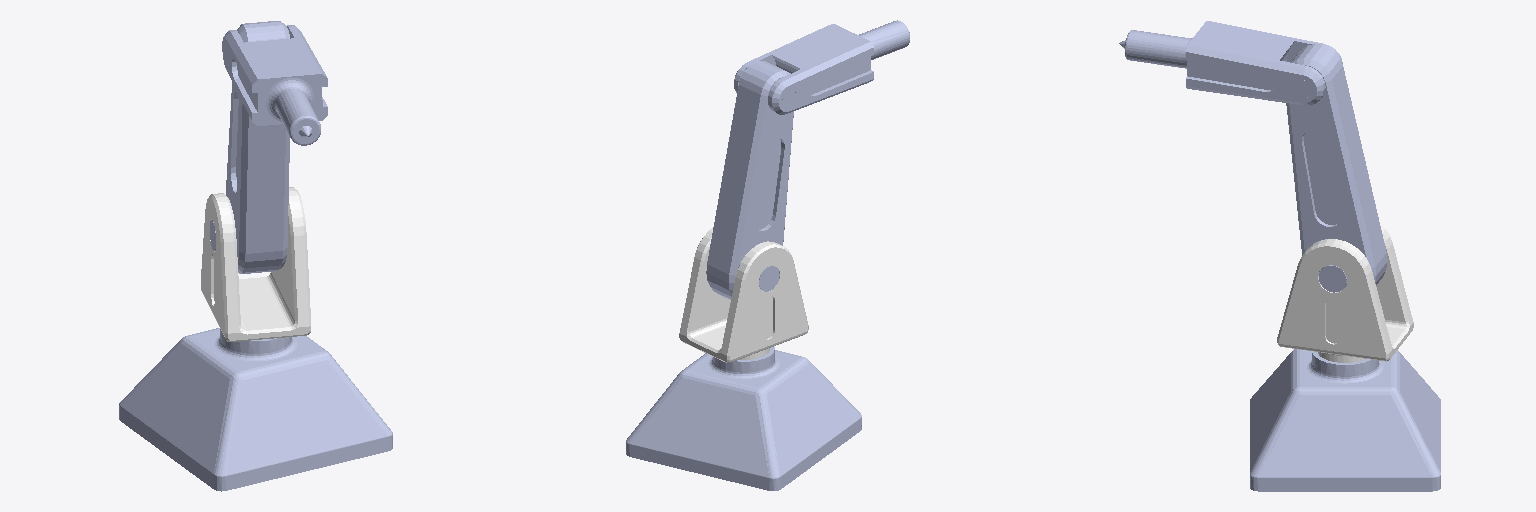
The robot description file, URDF, robot "robot_arm_urdf":
<?xml version="1.0" encoding="utf-8"?>
<!-- This URDF was automatically created by SolidWorks to URDF Exporter! Originally created by [author] ([email redacted]) 
     Commit Version: 1.6.0-4-g7f85cfe  Build Version: 1.6.7995.38578
     For more information, please see http://wiki.ros.org/sw_urdf_exporter -->
<robot
  name="robot_arm_urdf">
  <link
    name="base_link">
    <inertial>
      <origin
        xyz="0.00094902 -0.042374 0.0054442"
        rpy="0 0 0" />
      <mass
        value="17.147" />
      <inertia
        ixx="0.192"
        ixy="3.1704E-17"
        ixz="4.9423E-10"
        iyy="0.29544"
        iyz="-1.2591E-17"
        izz="0.192" />
    </inertial>
    <visual>
      <origin
        xyz="0 0 0"
        rpy="0 0 0" />
      <geometry>
        <mesh
          filename="package://robot_arm_urdf/meshes/base_link.STL" />
      </geometry>
      <material
        name="">
        <color
          rgba="0.79216 0.81961 0.93333 1" />
      </material>
    </visual>
    <collision>
      <origin
        xyz="0 0 0"
        rpy="0 0 0" />
      <geometry>
        <mesh
          filename="package://robot_arm_urdf/meshes/base_link.STL" />
      </geometry>
    </collision>
  </link>
  <link
    name="link1">
    <inertial>
      <origin
        xyz="-2.5743E-14 0.11047 -7.8988E-11"
        rpy="0 0 0" />
      <mass
        value="3.0905" />
      <inertia
        ixx="0.026302"
        ixy="-2.5287E-15"
        ixz="-1.4177E-12"
        iyy="0.019632"
        iyz="-7.4535E-12"
        izz="0.025388" />
    </inertial>
    <visual>
      <origin
        xyz="0 0 0"
        rpy="0 0 0" />
      <geometry>
        <mesh
          filename="package://robot_arm_urdf/meshes/link1.STL" />
      </geometry>
      <material
        name="">
        <color
          rgba="1 1 1 1" />
      </material>
    </visual>
    <collision>
      <origin
        xyz="0 0 0"
        rpy="0 0 0" />
      <geometry>
        <mesh
          filename="package://robot_arm_urdf/meshes/link1.STL" />
      </geometry>
    </collision>
  </link>
  <joint
    name="joint1"
    type="revolute">
    <origin
      xyz="0.00094902 -0.0054442 0.08375"
      rpy="1.5708 0 1.2523" />
    <parent
      link="base_link" />
    <child
      link="link1" />
    <axis
      xyz="0 1 0" />
    <limit
      lower="-3.14"
      upper="3.14"
      effort="300"
      velocity="3" />
  </joint>
  <link
    name="link2">
    <inertial>
      <origin
        xyz="-3.4972E-15 0.16574 -3.8251E-16"
        rpy="0 0 0" />
      <mass
        value="5.5443" />
      <inertia
        ixx="0.12387"
        ixy="-2.6997E-17"
        ixz="-3.4694E-18"
        iyy="0.011258"
        iyz="-2.884E-17"
        izz="0.12678" />
    </inertial>
    <visual>
      <origin
        xyz="0 0 0"
        rpy="0 0 0" />
      <geometry>
        <mesh
          filename="package://robot_arm_urdf/meshes/link2.STL" />
      </geometry>
      <material
        name="">
        <color
          rgba="0.79216 0.81961 0.93333 1" />
      </material>
    </visual>
    <collision>
      <origin
        xyz="0 0 0"
        rpy="0 0 0" />
      <geometry>
        <mesh
          filename="package://robot_arm_urdf/meshes/link2.STL" />
      </geometry>
    </collision>
  </link>
  <joint
    name="joint2"
    type="revolute">
    <origin
      xyz="0 0.205 0"
      rpy="0 0 0.16321" />
    <parent
      link="link1" />
    <child
      link="link2" />
    <axis
      xyz="0 0 1" />
    <limit
      lower="-3.14"
      upper="3.14"
      effort="300"
      velocity="3" />
  </joint>
  <link
    name="link3">
    <inertial>
      <origin
        xyz="0.1643 0.00020277 -1.5959E-16"
        rpy="0 0 0" />
      <mass
        value="2.676" />
      <inertia
        ixx="0.0054281"
        ixy="-0.00011381"
        ixz="-1.1059E-17"
        iyy="0.024185"
        iyz="-3.7947E-19"
        izz="0.021986" />
    </inertial>
    <visual>
      <origin
        xyz="0 0 0"
        rpy="0 0 0" />
      <geometry>
        <mesh
          filename="package://robot_arm_urdf/meshes/link3.STL" />
      </geometry>
      <material
        name="">
        <color
          rgba="0.79216 0.81961 0.93333 1" />
      </material>
    </visual>
    <collision>
      <origin
        xyz="0 0 0"
        rpy="0 0 0" />
      <geometry>
        <mesh
          filename="package://robot_arm_urdf/meshes/link3.STL" />
      </geometry>
    </collision>
  </link>
  <joint
    name="joint3"
    type="revolute">
    <origin
      xyz="0 0.4 0"
      rpy="0 0 2.945" />
    <parent
      link="link2" />
    <child
      link="link3" />
    <axis
      xyz="0 0 1" />
    <limit
      lower="-3.14"
      upper="3.14"
      effort="300"
      velocity="3" />
  </joint>
</robot>

--- What the picture shows (computed from the rendered views, not written in the file) ---
The picture shows the robot from 3 angles, left to right: view 1: azimuth 30°, elevation 25°; view 2: azimuth 150°, elevation 25°; view 3: azimuth 270°, elevation 25°; orthographic projection.
Robot: robot_arm_urdf — 4 links, 3 joints (3 revolute); root link base_link; default pose: every joint at zero.
Visible links, largest first — view 1: base_link, link1, link2, link3; view 2: base_link, link2, link1, link3; view 3: base_link, link2, link1, link3.
Link boxes in pixels (box(x1,y1,x2,y2)): base_link: box(119, 328, 392, 491); link1: box(201, 187, 310, 341); link2: box(210, 21, 289, 273); link3: box(222, 25, 327, 145); base_link: box(626, 347, 861, 490); link2: box(706, 60, 795, 299); link1: box(679, 228, 808, 362); link3: box(734, 20, 909, 114); base_link: box(1250, 349, 1440, 491); link2: box(1286, 44, 1387, 292); link1: box(1277, 223, 1413, 362); link3: box(1119, 21, 1342, 105).
Bounding box of the posed robot: 0.3732 × 0.6283 × 0.8546 m (x, y, z).
Meshes: 4 distinct files referenced, 4 mesh visuals loaded (4 binary STL).